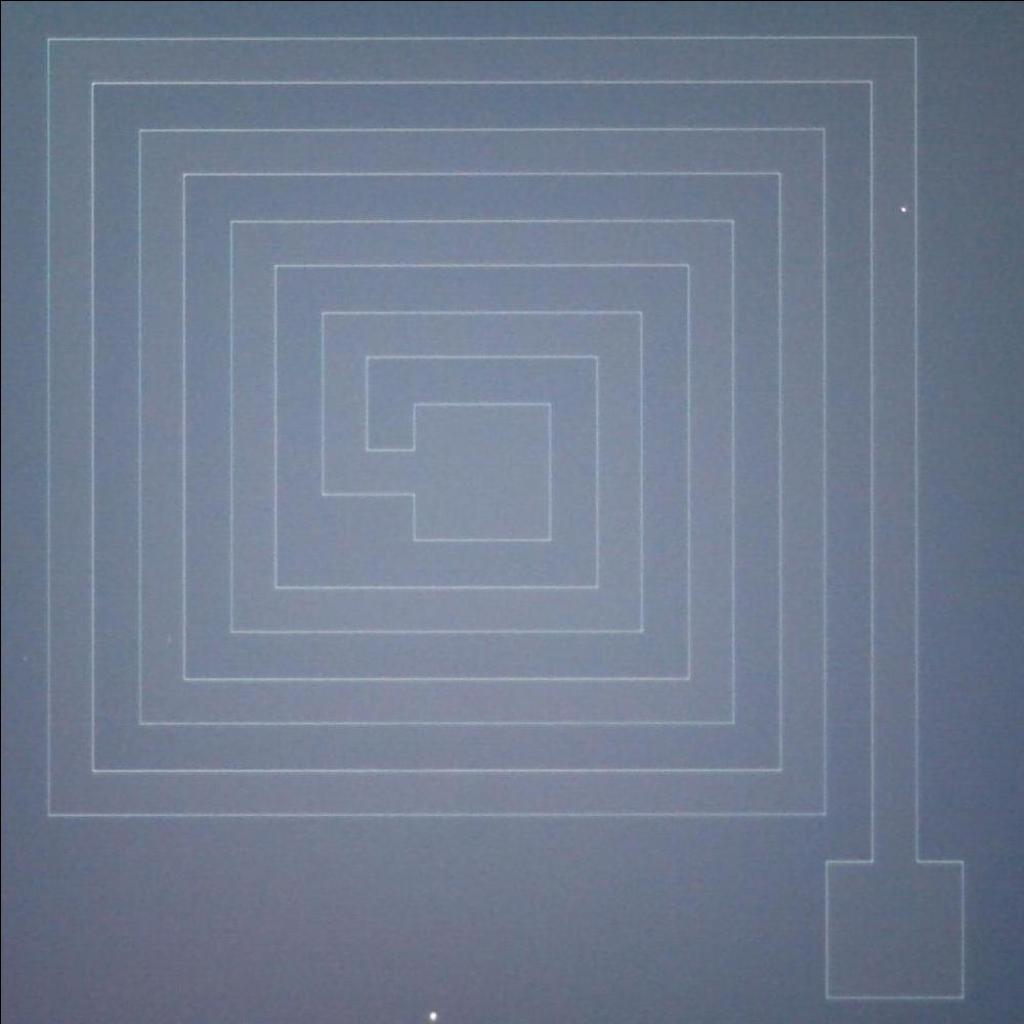dot: (887, 190, 915, 226), (414, 999, 448, 1023)
